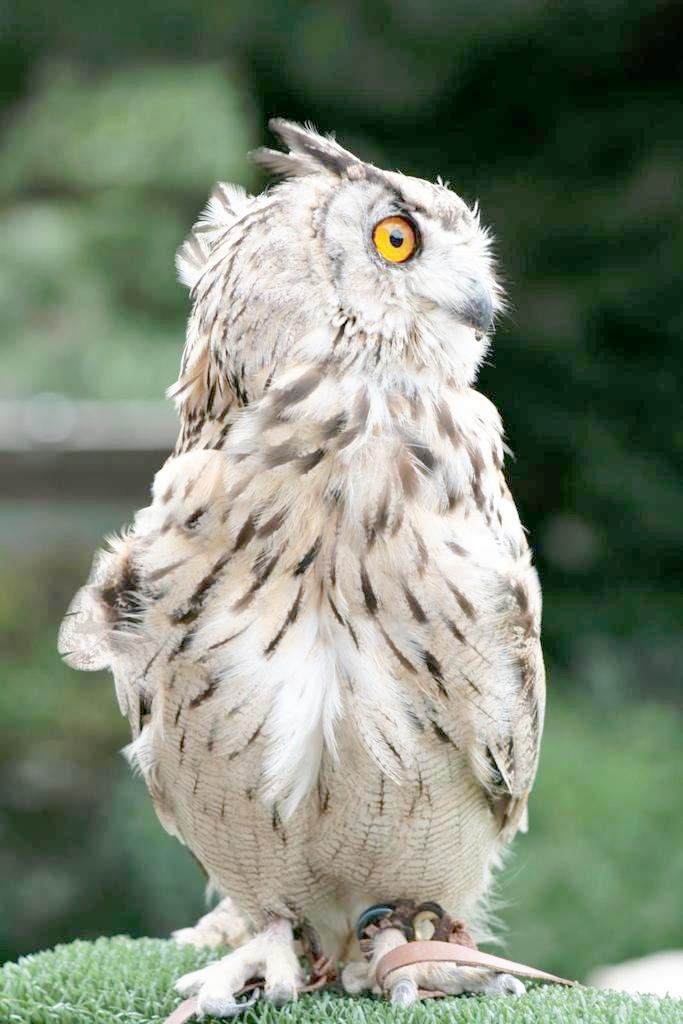Owl: (58, 116, 555, 1024)
